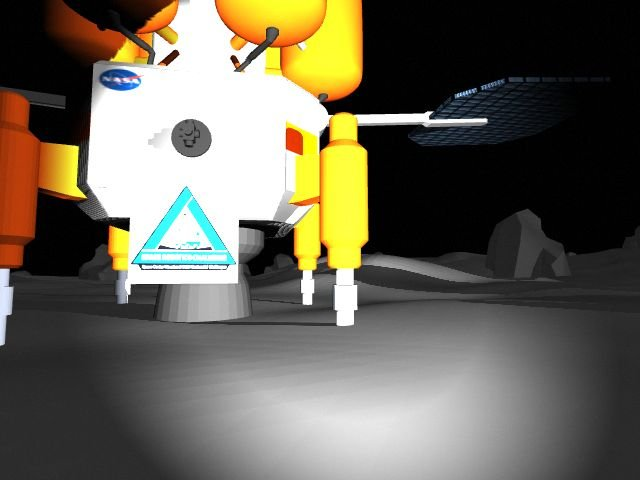basemarker: (131, 183, 235, 271)
